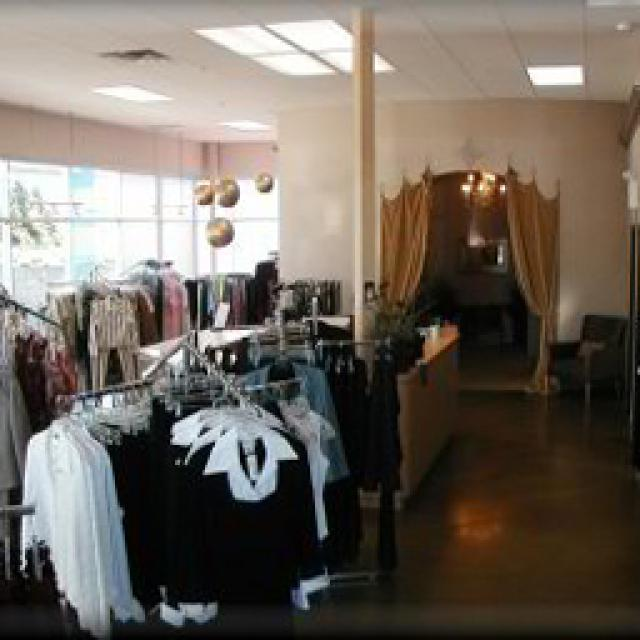armchair crop: (545, 312, 622, 415)
clothes hamper: (80, 398, 178, 598), (0, 320, 72, 575), (362, 320, 420, 488), (48, 282, 132, 385), (182, 260, 278, 325), (320, 358, 365, 478), (132, 268, 185, 338)
clothes washer: (138, 328, 248, 400)
curtain crop: (502, 152, 555, 390), (378, 152, 430, 332)
floor -X: (0, 325, 635, 635)
lamp crop: (190, 15, 398, 75), (90, 80, 168, 102), (525, 62, 580, 85)
shirts: (158, 402, 325, 622), (15, 412, 142, 632)
stand clothes: (358, 320, 452, 510)
wall clock: (272, 92, 625, 385), (0, 98, 278, 387), (410, 168, 535, 340), (620, 92, 638, 472)
